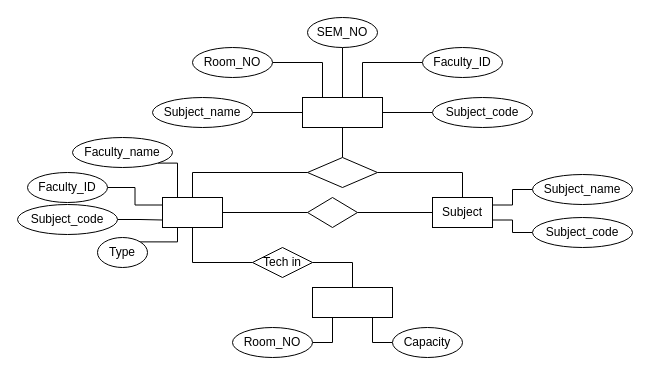
This 650x375 diagram has some shape labels left out. The shapes that lost their labels are listed below. From the top down, each one's box as (x1, y1, x2, y2) in pixels, then its label:
(302, 96, 382, 128): Time Table
(306, 156, 378, 188): assign to
(162, 196, 222, 228): Faculty
(306, 196, 358, 228): Tech
(312, 286, 392, 318): Lab./Class
